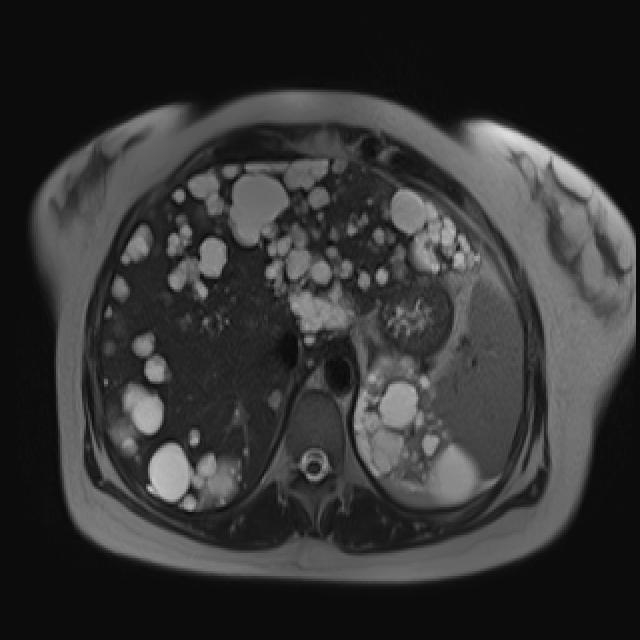sol: (352, 341, 480, 505)
